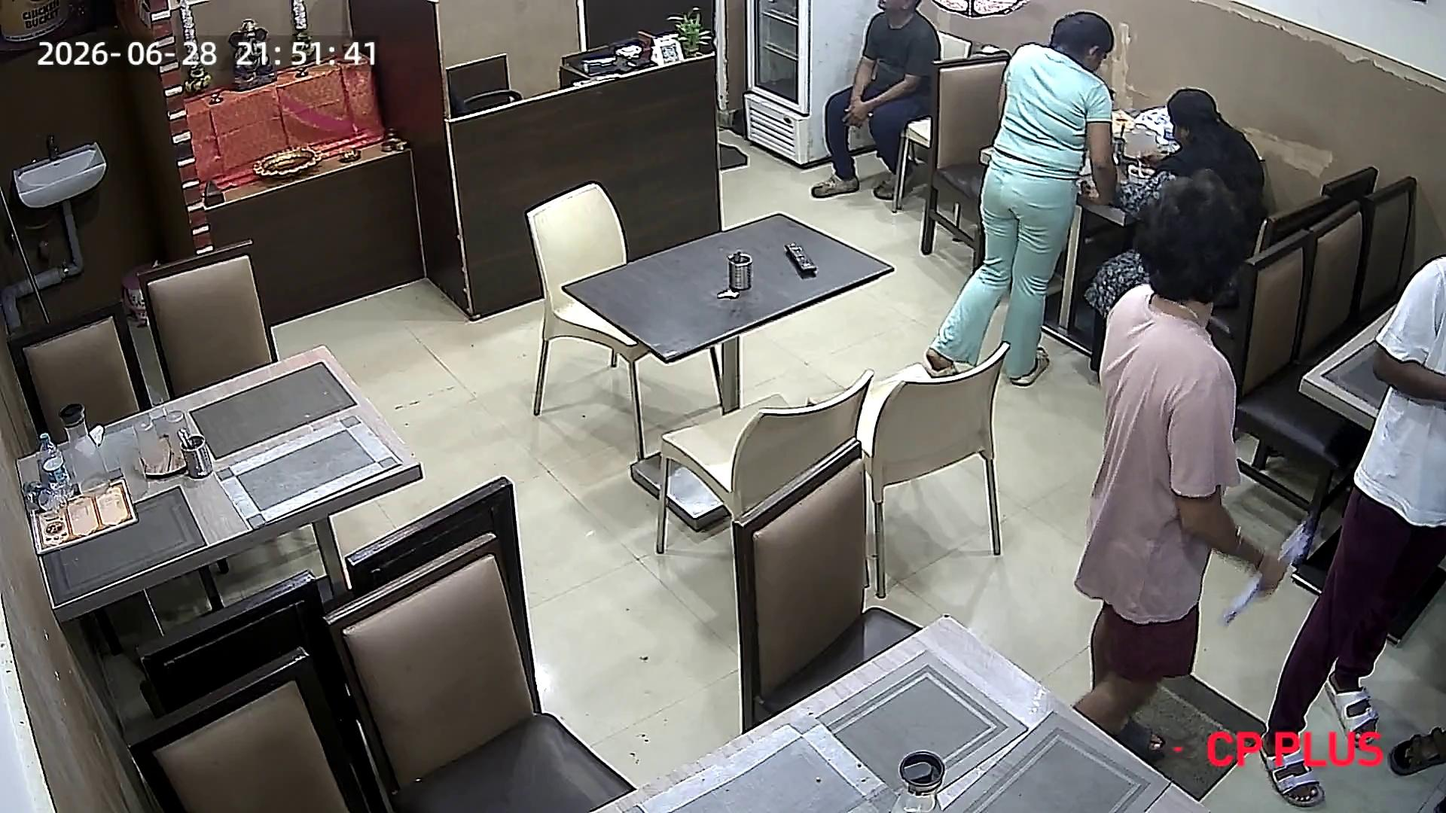clean: (608, 658, 1227, 813), (561, 209, 899, 360)
dirty: (10, 337, 424, 608)
occupied: (976, 76, 1253, 247)
